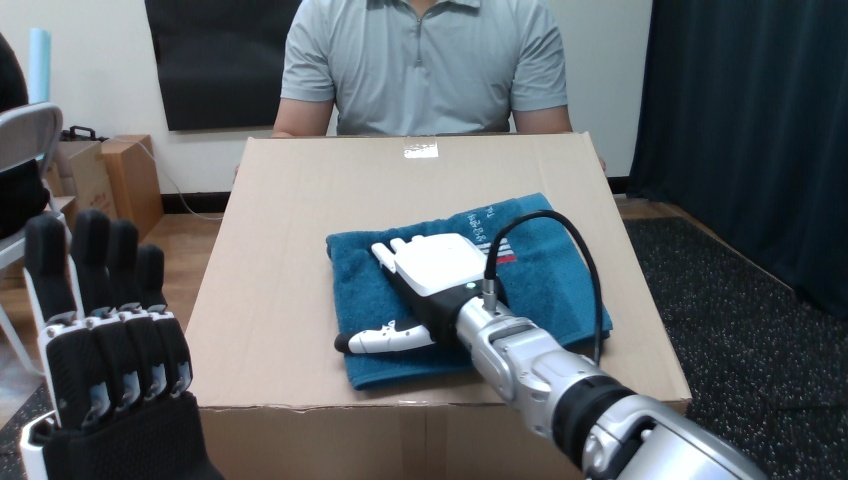left robot hand: (335, 210, 764, 479), (495, 217, 596, 363), (144, 215, 220, 327)
